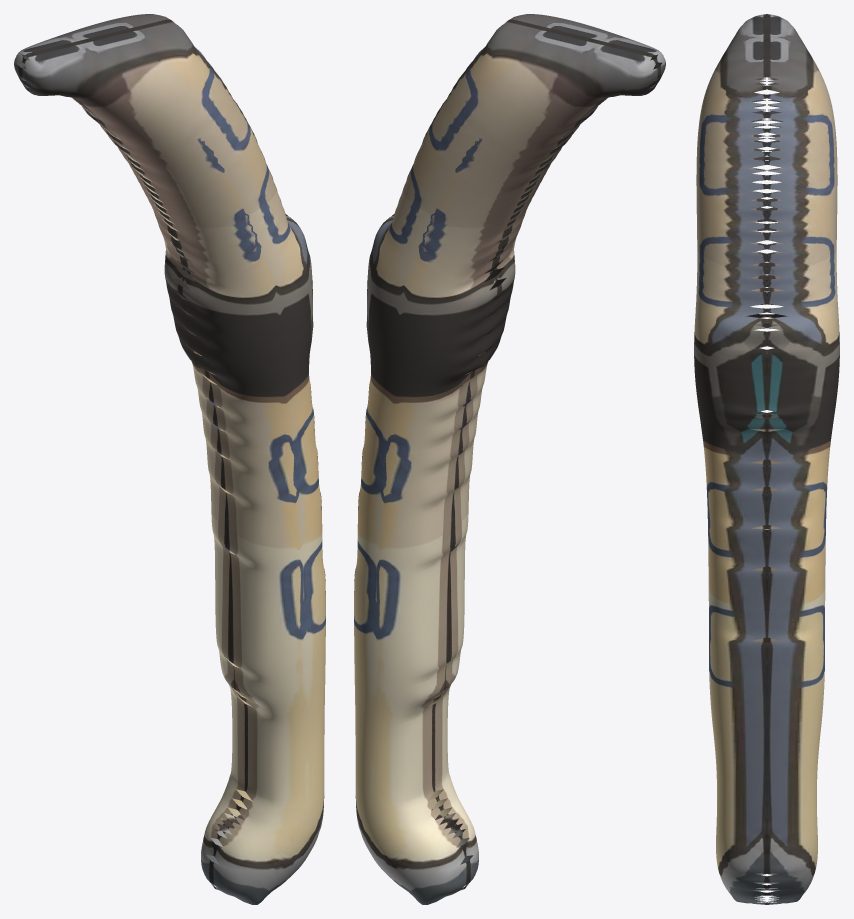
Rendered from side_rib.glb.
3 renders of one model, left to right at view 1: azimuth 30°, elevation 25°; view 2: azimuth 150°, elevation 25°; view 3: azimuth 270°, elevation 25°, orthographic. The views are drawn at different scales.
Visible parts, largest first — view 1: side_rib; view 2: side_rib; view 3: side_rib.
Boxes of the visible parts, box(x1,y1,x2,y2) form: side_rib: box(14, 14, 325, 904); side_rib: box(354, 14, 665, 904); side_rib: box(694, 14, 839, 904).
Size of the model in its own units: 0.9682 by 2.83 by 0.471.
Materials: 1 (1 with a texture image).
